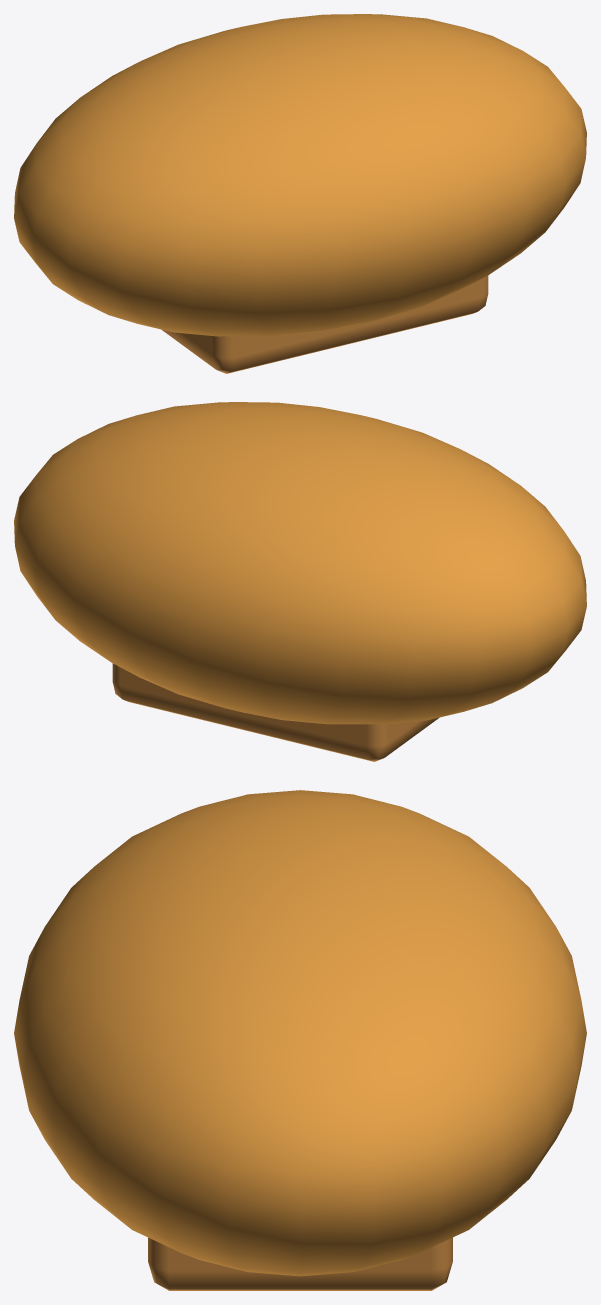
Rendered from wp-pain-au-chocolat.glb.
3 views of the same model, one above another, from view 1: azimuth 30°, elevation 25°; view 2: azimuth 150°, elevation 25°; view 3: azimuth 270°, elevation 25° (orthographic). The views are drawn at different scales.
Visible parts, largest first — view 1: wp-pain-au-chocolat; view 2: wp-pain-au-chocolat; view 3: wp-pain-au-chocolat.
Part boxes in pixels (<box>): wp-pain-au-chocolat: <box>14,14,586,373</box>; wp-pain-au-chocolat: <box>14,402,586,761</box>; wp-pain-au-chocolat: <box>14,790,586,1290</box>.
Bounding box in the file's own units: 0.13 × 0.06 × 0.09.
